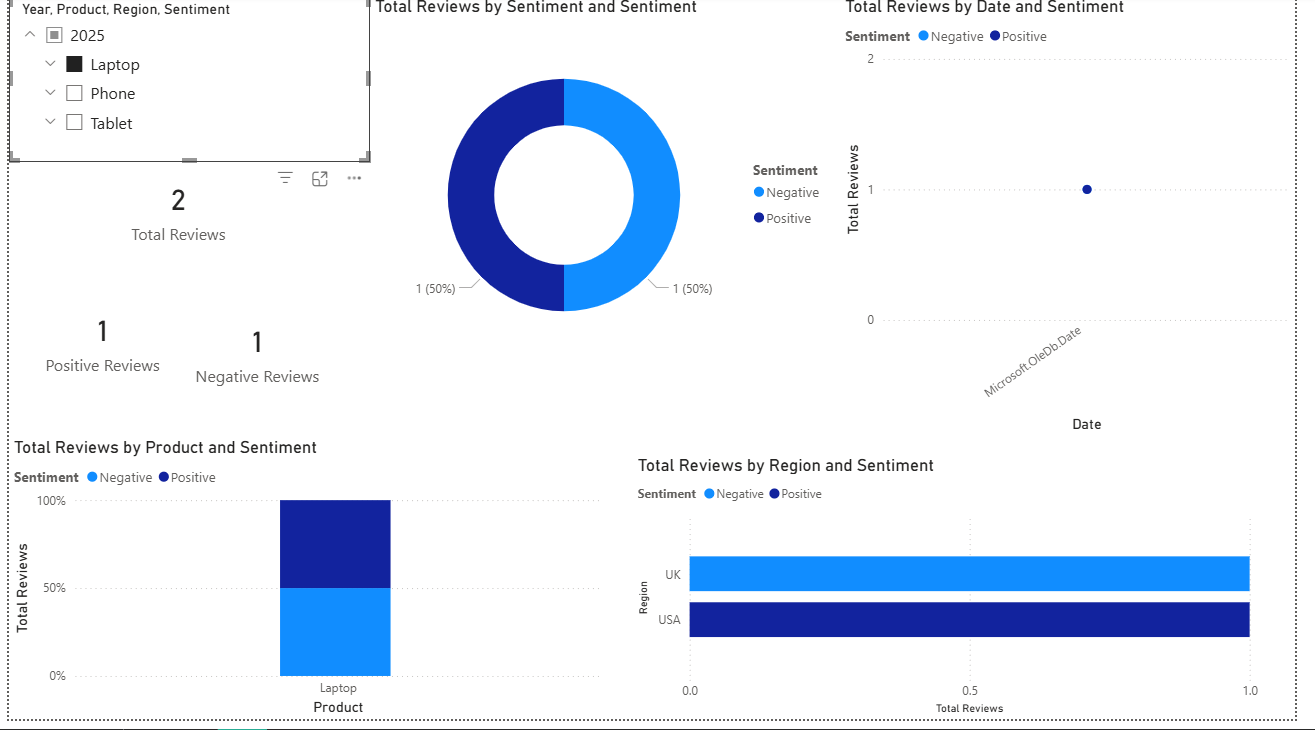

This screenshot's page, from the dashboard's own definition file:
{"tool":"powerbi","page":{"name":"Page 1","canvas":[1280,720],"ordinal":0},"visuals":[{"type":"card","fields":{"Values":["Sheet1.Total Reviews"]},"box":[0,129,337.6,166],"z":0},{"type":"card","fields":{"Values":["Sheet1.Positive Reviews"]},"box":[0,269,186.6,148.2],"z":1000},{"type":"card","fields":{"Values":["Sheet1.Negative Reviews"]},"box":[156.4,269,181.1,170.2],"z":2000},{"type":"donutChart","fields":{"Category":["FactReviews.Sentiment"],"Series":["FactReviews.Sentiment"],"Y":["Sheet1.Total Reviews"]},"box":[359.5,0,467.9,377.4],"z":3000},{"type":"hundredPercentStackedColumnChart","fields":{"Category":["FactReviews.Product"],"Series":["FactReviews.Sentiment"],"Y":["Sheet1.Total Reviews"]},"box":[0,439.1,594.2,281.3],"z":4000},{"type":"lineChart","fields":{"Series":["FactReviews.Sentiment"],"Y":["Sheet1.Total Reviews"],"Category":["FactReviews.Date"]},"box":[827.4,0,452.8,439.1],"z":5000},{"type":"barChart","fields":{"Category":["FactReviews.Region"],"Series":["FactReviews.Sentiment"],"Y":["Sheet1.Total Reviews"]},"box":[620.2,456.9,627.1,263.5],"z":6000},{"type":"slicer","fields":{"Values":["FactReviews.Year","FactReviews.Product","FactReviews.Region","FactReviews.Sentiment"]},"box":[0,0,359.5,166],"z":7000}]}

Visuals, with their boxes in screenshot pixels (x1, y1, x2, y2), scaled from the page's 1280x720 canvas onto the 1315x730 screenshot:
card - Sheet1.Total Reviews: region(0, 131, 347, 299)
card - Sheet1.Positive Reviews: region(0, 273, 192, 423)
card - Sheet1.Negative Reviews: region(161, 273, 347, 445)
donutChart - FactReviews.Sentiment x FactReviews.Sentiment: region(369, 0, 850, 383)
hundredPercentStackedColumnChart - FactReviews.Product x FactReviews.Sentiment: region(0, 445, 610, 729)
lineChart - FactReviews.Sentiment x Sheet1.Total Reviews: region(850, 0, 1314, 445)
barChart - FactReviews.Region x FactReviews.Sentiment: region(637, 463, 1281, 729)
slicer - FactReviews.Year x FactReviews.Product: region(0, 0, 369, 168)
